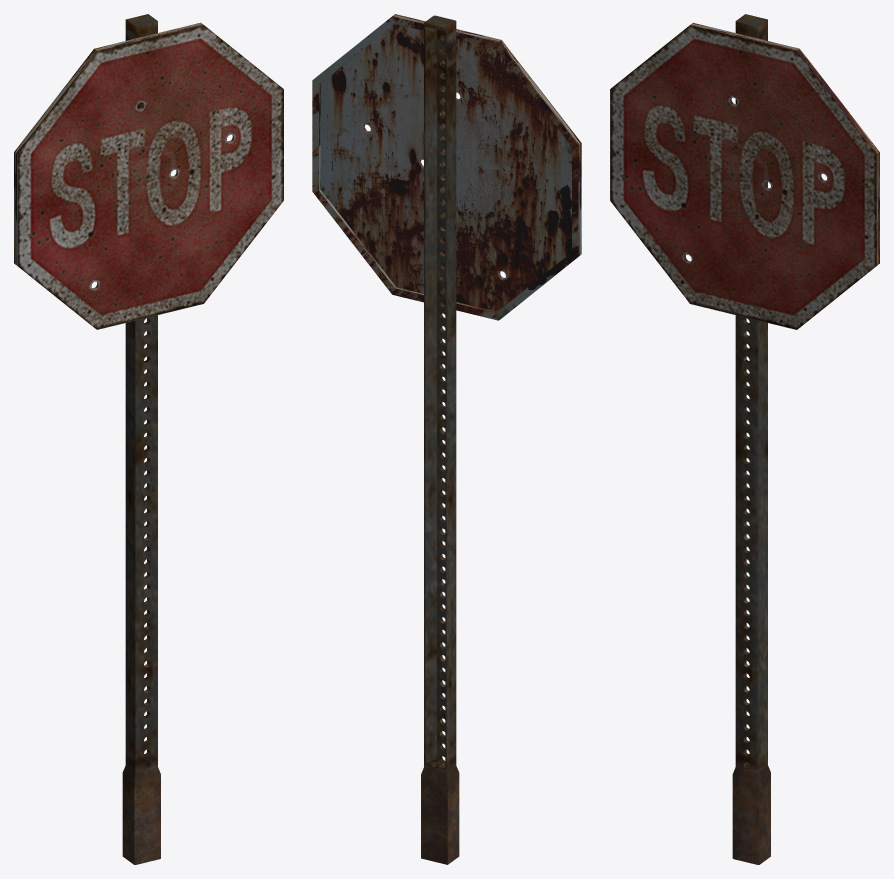
The model's file is road_sign.gltf.
The picture shows the model from 3 angles, left to right: view 1: azimuth 30°, elevation 25°; view 2: azimuth 150°, elevation 25°; view 3: azimuth 330°, elevation 25°; orthographic projection.
Visible parts, largest first — view 1: Stop Sign_01 - Default_0, Stop Sign_08 - Default_0, Stop Sign_07 - Default_0, Stop Sign_02 - Default_0; view 2: Stop Sign_02 - Default_0, Stop Sign_08 - Default_0, Stop Sign_07 - Default_0; view 3: Stop Sign_01 - Default_0, Stop Sign_08 - Default_0, Stop Sign_07 - Default_0, Stop Sign_02 - Default_0.
Part boxes in pixels (bbox=[...]): Stop Sign_01 - Default_0: bbox=[17, 25, 283, 329]; Stop Sign_08 - Default_0: bbox=[125, 14, 157, 772]; Stop Sign_07 - Default_0: bbox=[122, 765, 160, 864]; Stop Sign_02 - Default_0: bbox=[14, 22, 203, 325]; Stop Sign_02 - Default_0: bbox=[312, 14, 581, 320]; Stop Sign_08 - Default_0: bbox=[424, 15, 456, 772]; Stop Sign_07 - Default_0: bbox=[421, 766, 459, 864]; Stop Sign_01 - Default_0: bbox=[610, 25, 876, 329]; Stop Sign_08 - Default_0: bbox=[735, 14, 767, 772]; Stop Sign_07 - Default_0: bbox=[732, 765, 770, 864]; Stop Sign_02 - Default_0: bbox=[690, 22, 879, 327].
Bounding box in the file's own units: 100 × 300 × 9.35.
5 materials, 5 textured.
